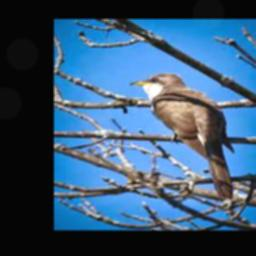Cuckoo: (132, 73, 236, 200)
